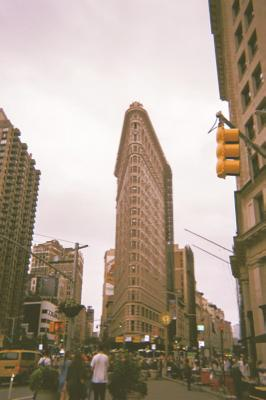International Road Signal Light: (215, 124, 240, 179)
